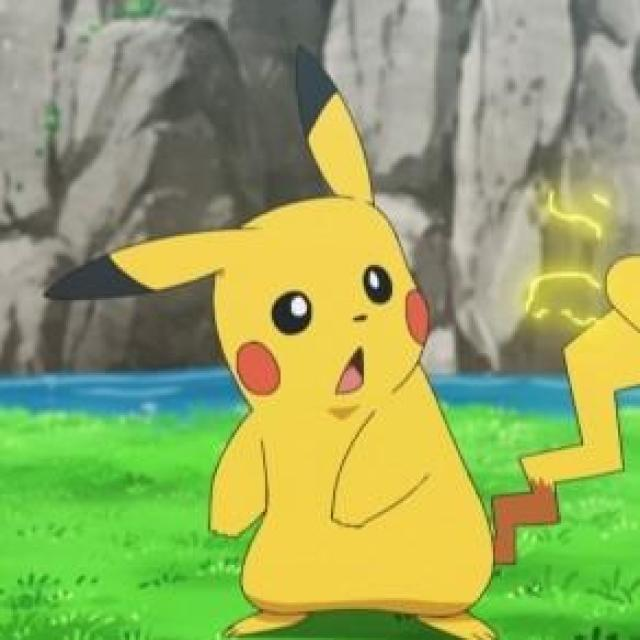pikachu: (44, 44, 640, 636)
